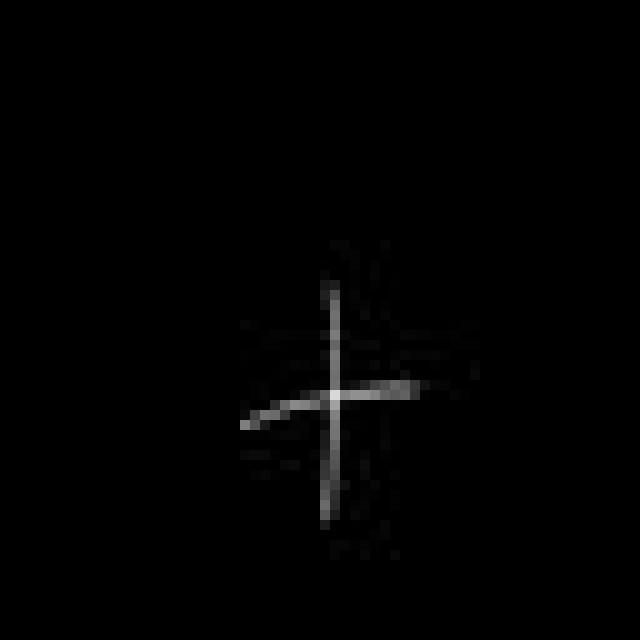10 -ten-: (226, 272, 427, 534)
